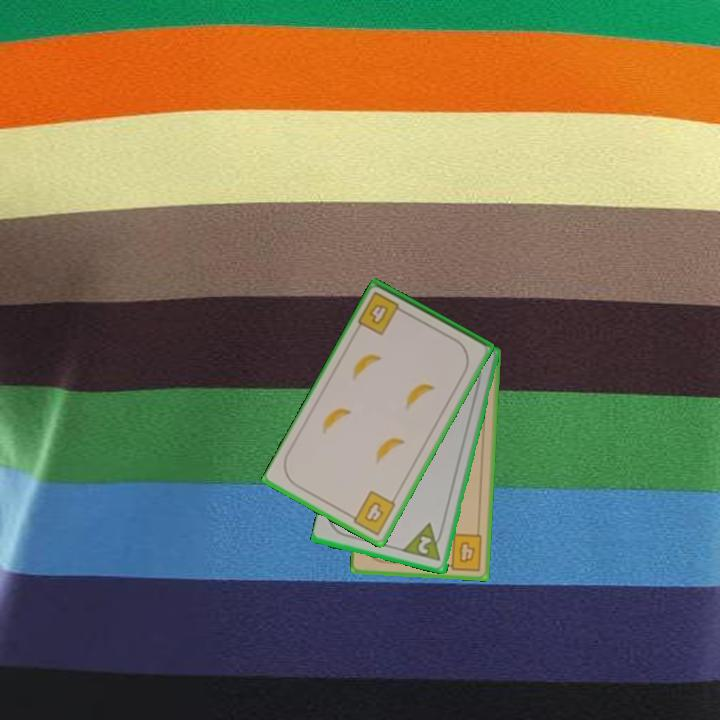2p: (414, 532, 435, 557)
4b: (345, 487, 399, 538), (355, 288, 410, 338), (441, 530, 485, 573)
